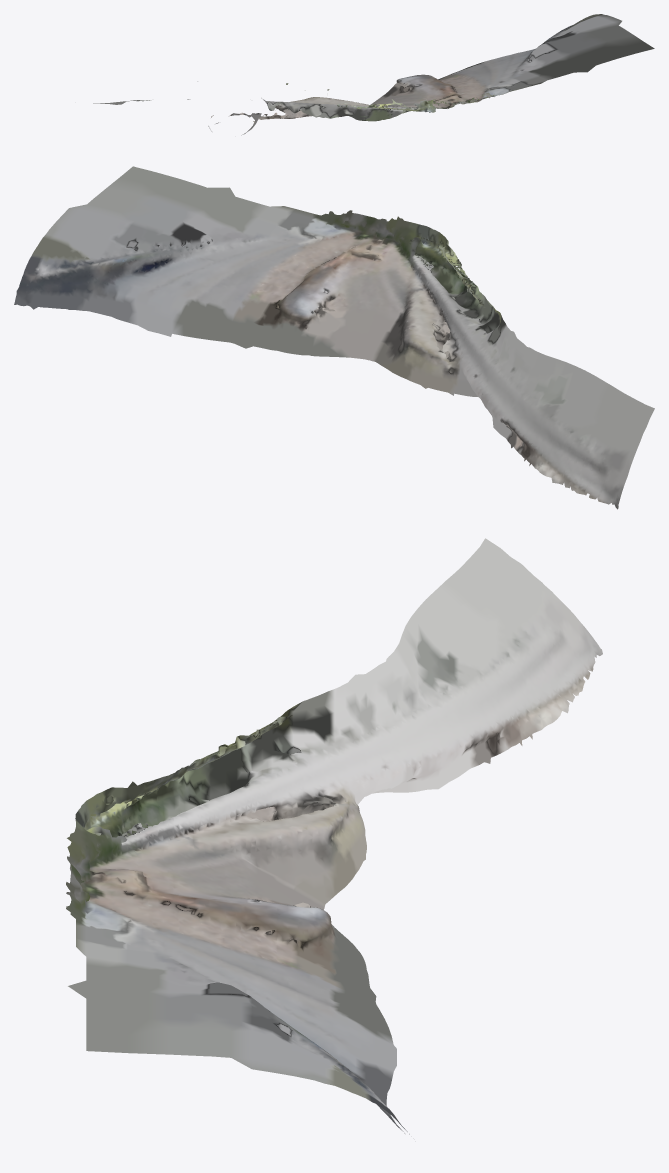
The model's file is 3d_model_stitched_image_20250704_142243.gltf.
The picture shows the model from 3 angles, top to bottom: view 1: azimuth 30°, elevation 25°; view 2: azimuth 150°, elevation 25°; view 3: azimuth 270°, elevation 25°; orthographic projection. The views are drawn at different scales.
Bounding box in the file's own units: 0.00201 × 0.000222 × 0.000897.
